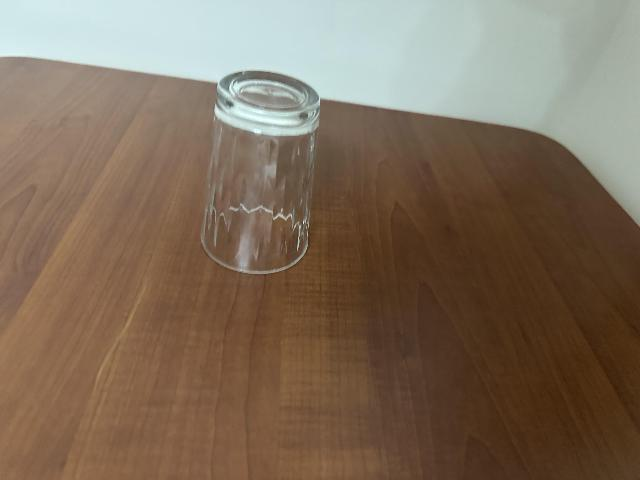Cam: (197, 67, 325, 278)
